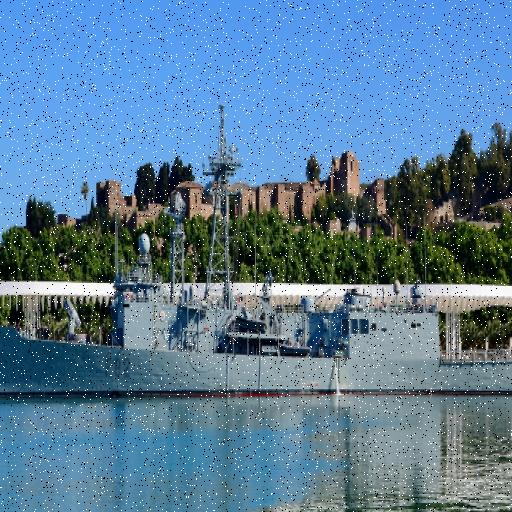Fragata: (1, 176, 512, 404)
